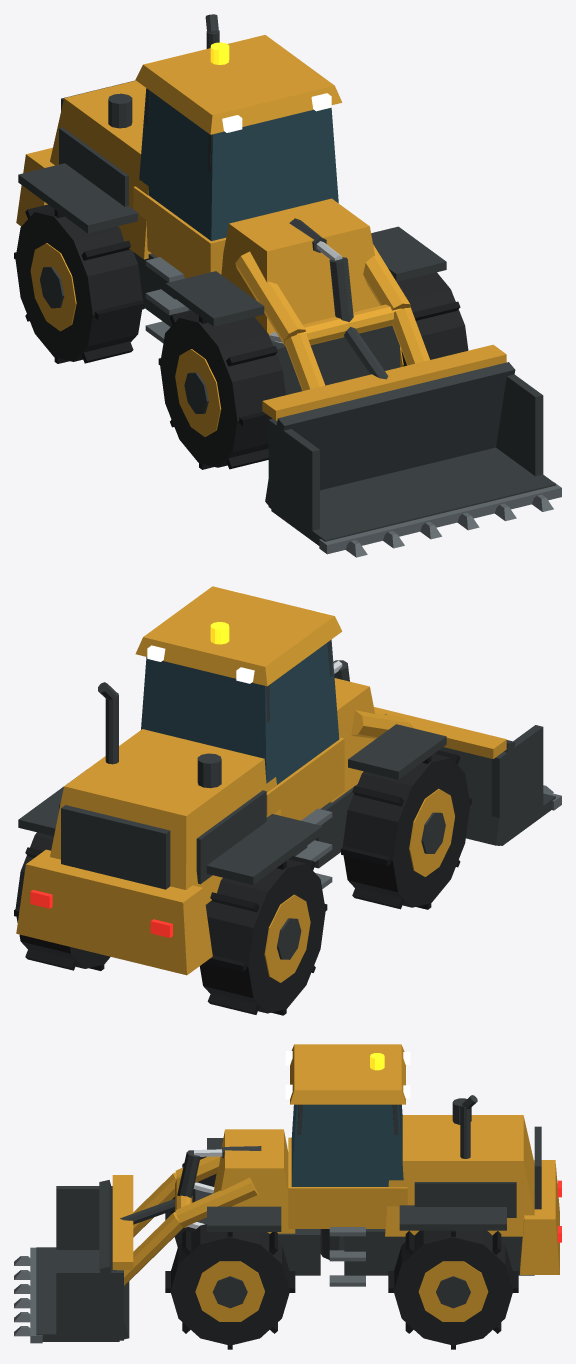
Rendered from wheel_loader.glb.
The picture shows the model from 3 angles, top to bottom: view 1: azimuth 30°, elevation 25°; view 2: azimuth 150°, elevation 25°; view 3: azimuth 270°, elevation 25°; orthographic projection. The views are drawn at different scales.
Visible parts, largest first — view 1: Loader_Body, Loader_Bucket, Loader_Boom; view 2: Loader_Body, Loader_Bucket, Loader_Boom; view 3: Loader_Body, Loader_Bucket, Loader_Boom.
Boxes of the visible parts, box(x1,y1,x2,y2) form: Loader_Body: box(14, 14, 468, 469); Loader_Bucket: box(262, 344, 561, 557); Loader_Boom: box(235, 218, 429, 390); Loader_Body: box(14, 586, 471, 1015); Loader_Bucket: box(374, 707, 561, 845); Loader_Boom: box(333, 660, 413, 738); Loader_Body: box(165, 1044, 561, 1349); Loader_Bucket: box(14, 1175, 133, 1343); Loader_Boom: box(117, 1146, 261, 1285).
Bounding box in the file's own units: 2.46 × 3.2 × 6.34.
